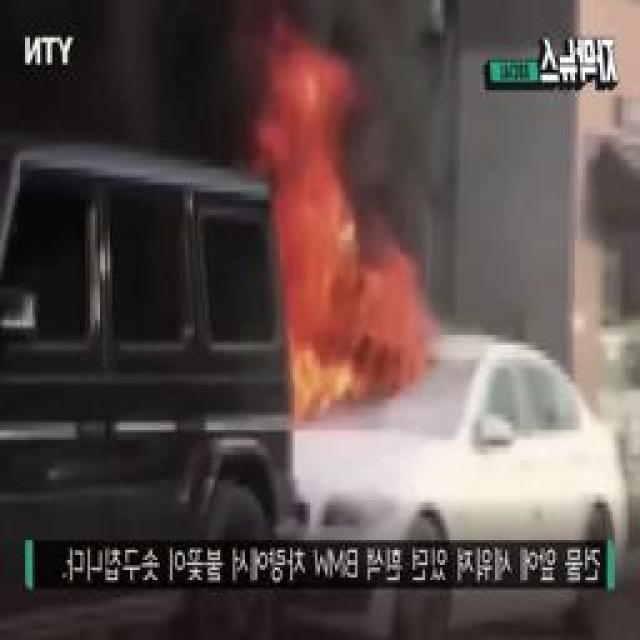Fire: (250, 56, 408, 405)
